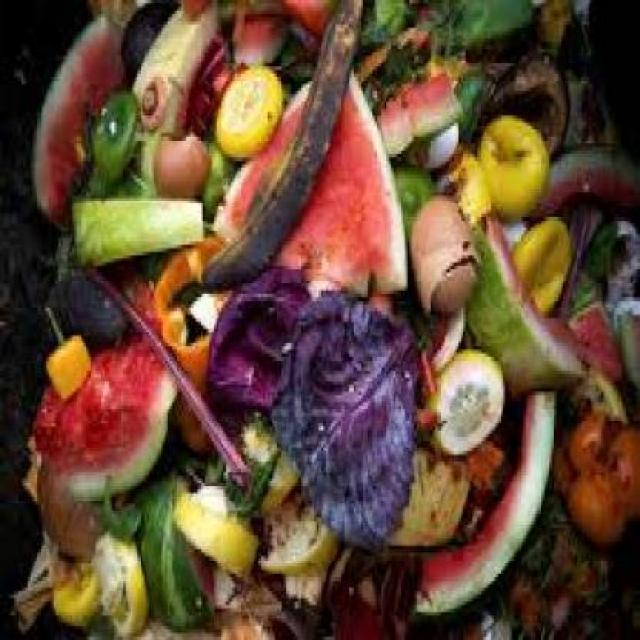garbage: (3, 0, 638, 636)
